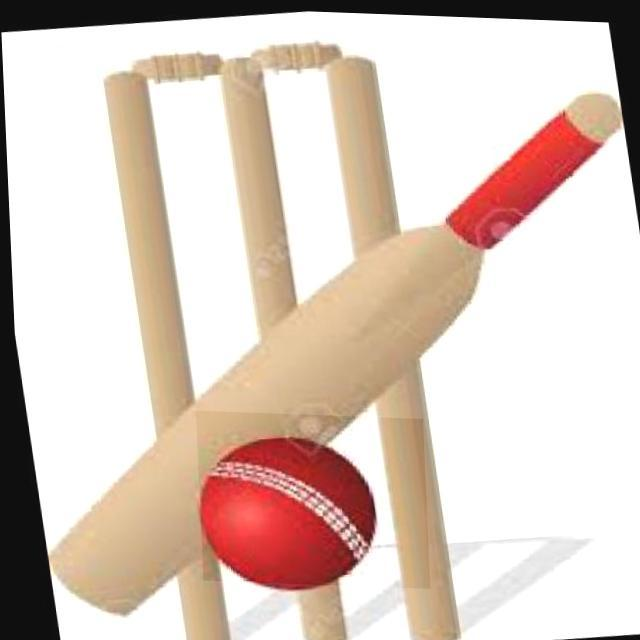-: (192, 409, 425, 586)
